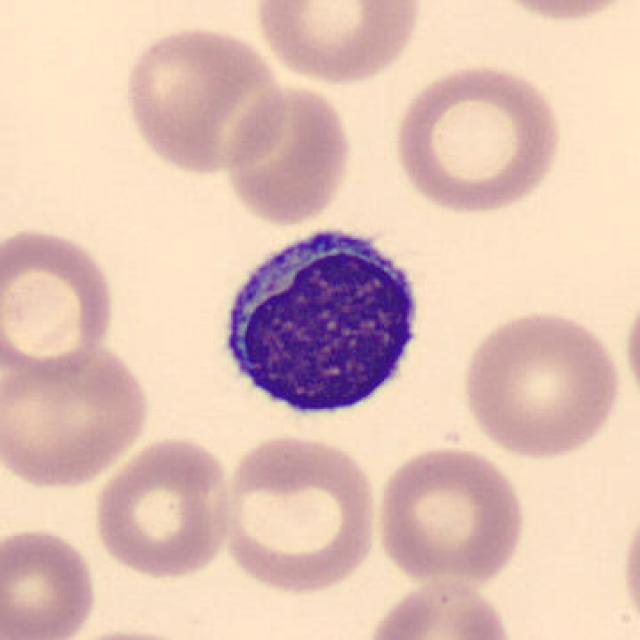Lymphocyte: (208, 215, 434, 429)
RBC: (388, 60, 567, 217), (217, 430, 382, 596), (457, 303, 624, 462), (119, 21, 288, 176), (0, 338, 155, 492), (372, 442, 530, 590), (89, 432, 238, 580), (220, 80, 356, 228), (0, 222, 121, 383), (250, 0, 426, 86), (0, 523, 101, 640), (360, 576, 517, 640), (473, 0, 640, 26), (617, 494, 640, 634), (620, 280, 640, 416)
